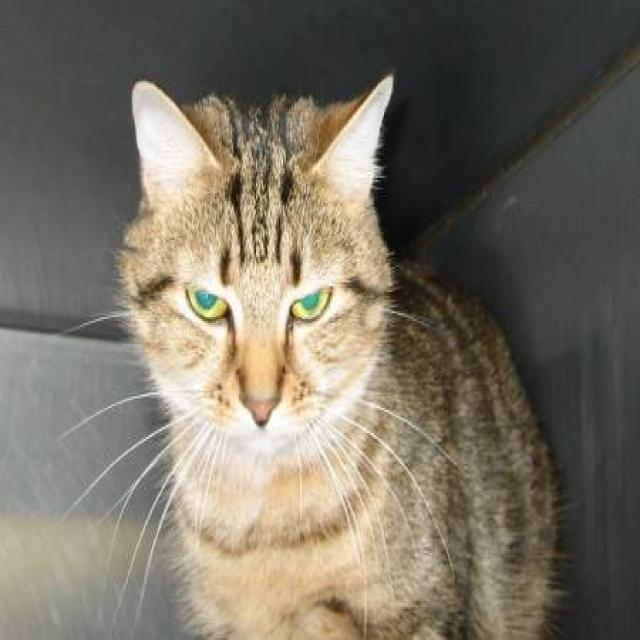cat: (95, 50, 572, 640)
